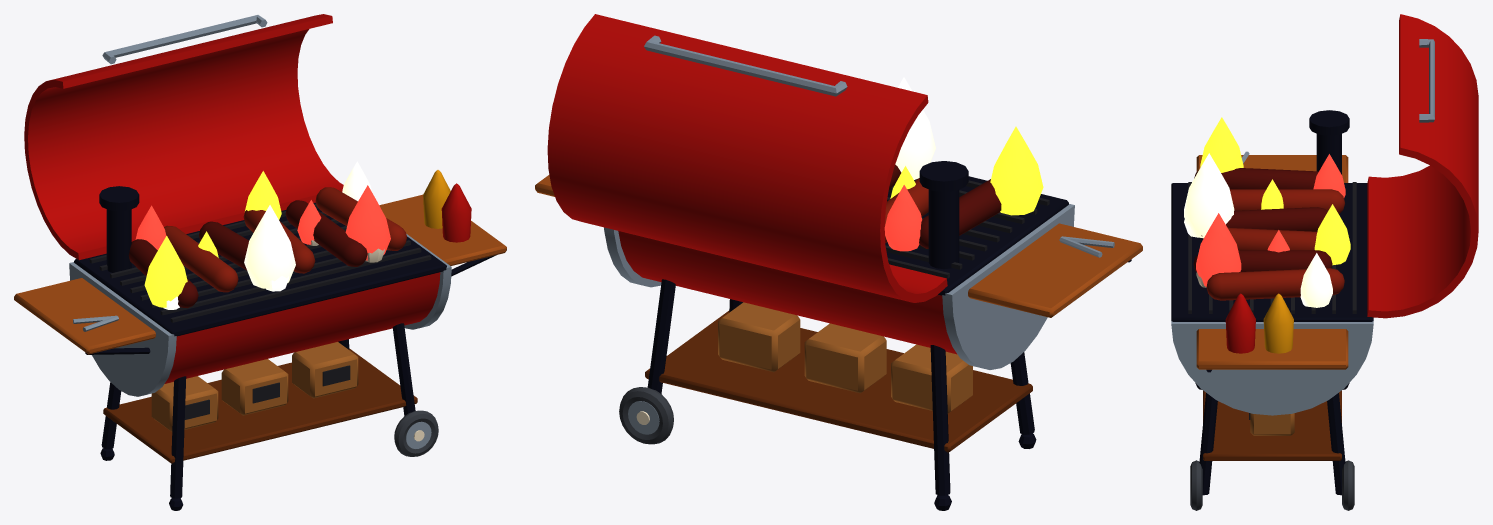
Rendered from FlameGrill.fbx.
3 views of the same model, side by side, from view 1: azimuth 30°, elevation 25°; view 2: azimuth 150°, elevation 25°; view 3: azimuth 270°, elevation 25° (orthographic). The views are drawn at different scales.
Parts seen in each view (by area): view 1: FlameGrill; view 2: FlameGrill; view 3: FlameGrill.
Part boxes in pixels (left/top/right/bottom): FlameGrill: left=14, top=14, right=506, bottom=510; FlameGrill: left=535, top=14, right=1142, bottom=510; FlameGrill: left=1171, top=14, right=1478, bottom=510.
Bounding box in the file's own units: 7.8 × 6.5 × 4.86.
